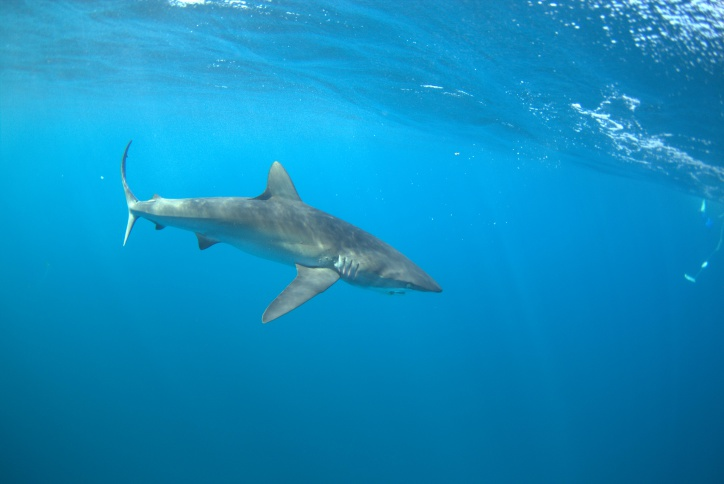Sedoso: (95, 132, 460, 340)
